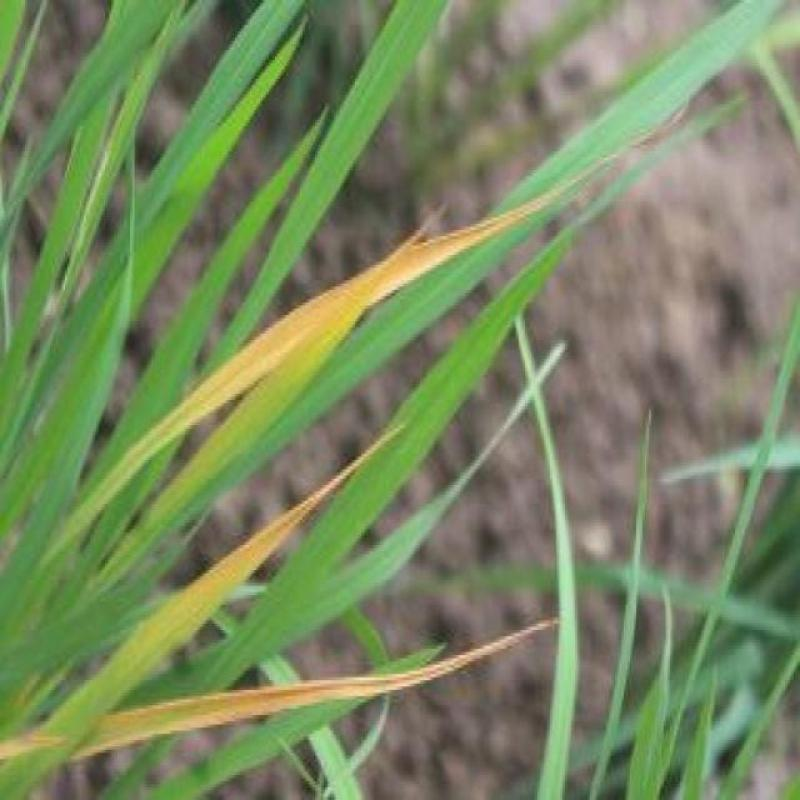Rice Tungro: (194, 182, 555, 420), (198, 458, 368, 628), (190, 648, 521, 718)
